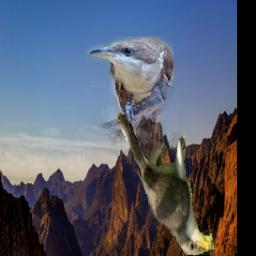Cuckoo: (118, 114, 216, 256), (87, 37, 173, 171)
